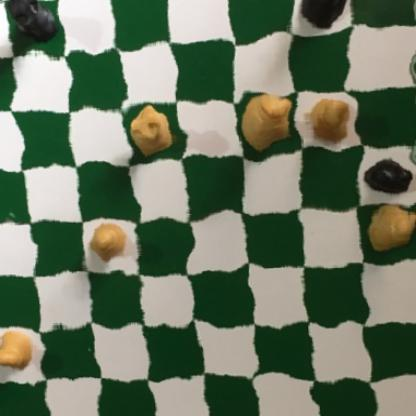black-king: (293, 0, 358, 34)
black-pawn: (364, 154, 416, 196)
black-rook: (6, 0, 64, 50)
white-king: (235, 93, 298, 154)
white-pawn: (362, 200, 416, 254), (303, 91, 356, 145), (88, 223, 134, 265), (0, 326, 38, 369)
white-rook: (127, 101, 176, 161)
